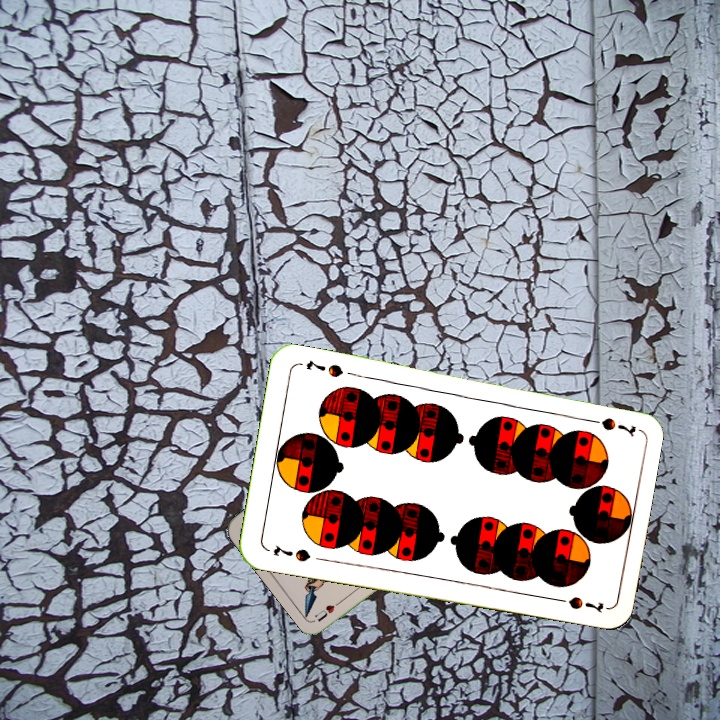HU: (312, 594, 347, 625)
S7: (579, 414, 638, 436), (269, 541, 313, 565)
